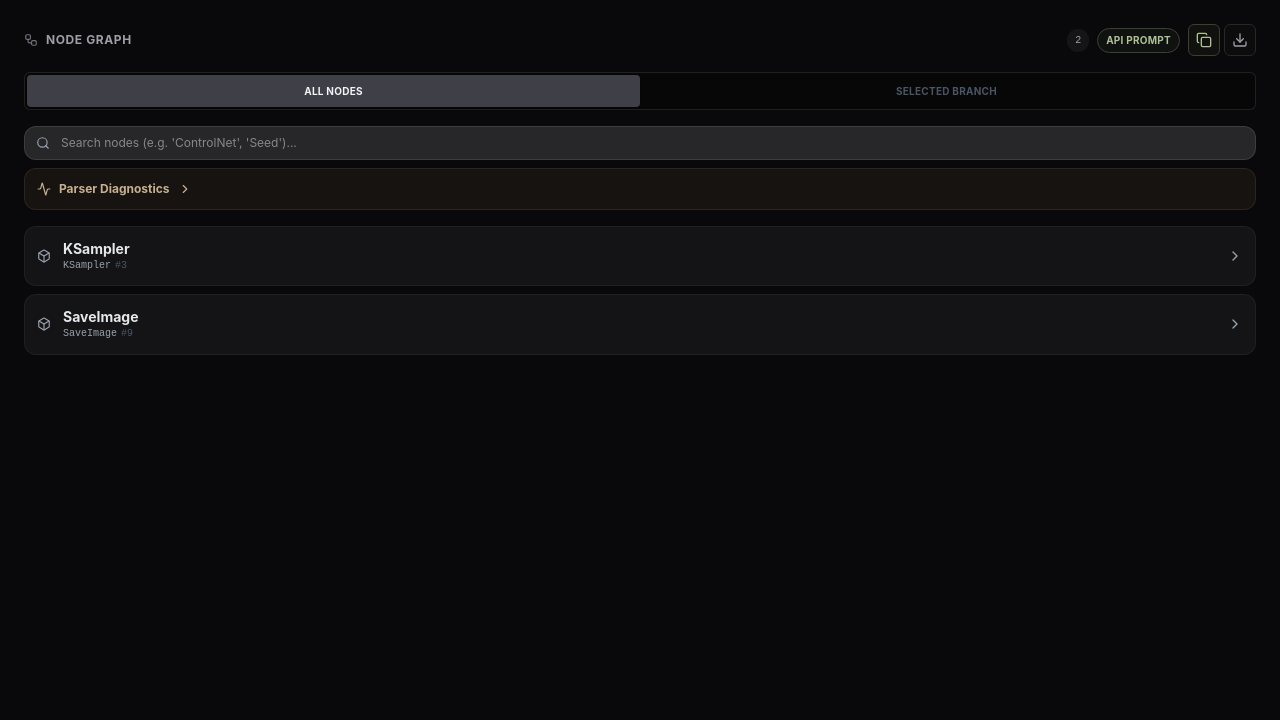
it: WorkflowInspector ComfyUI parser diagnostics › marks sampler fallback diagnostics as weaker evidence
Step 1. Click the button "Parser Diagnostics" → (114, 188), box [37,181,1243,197]
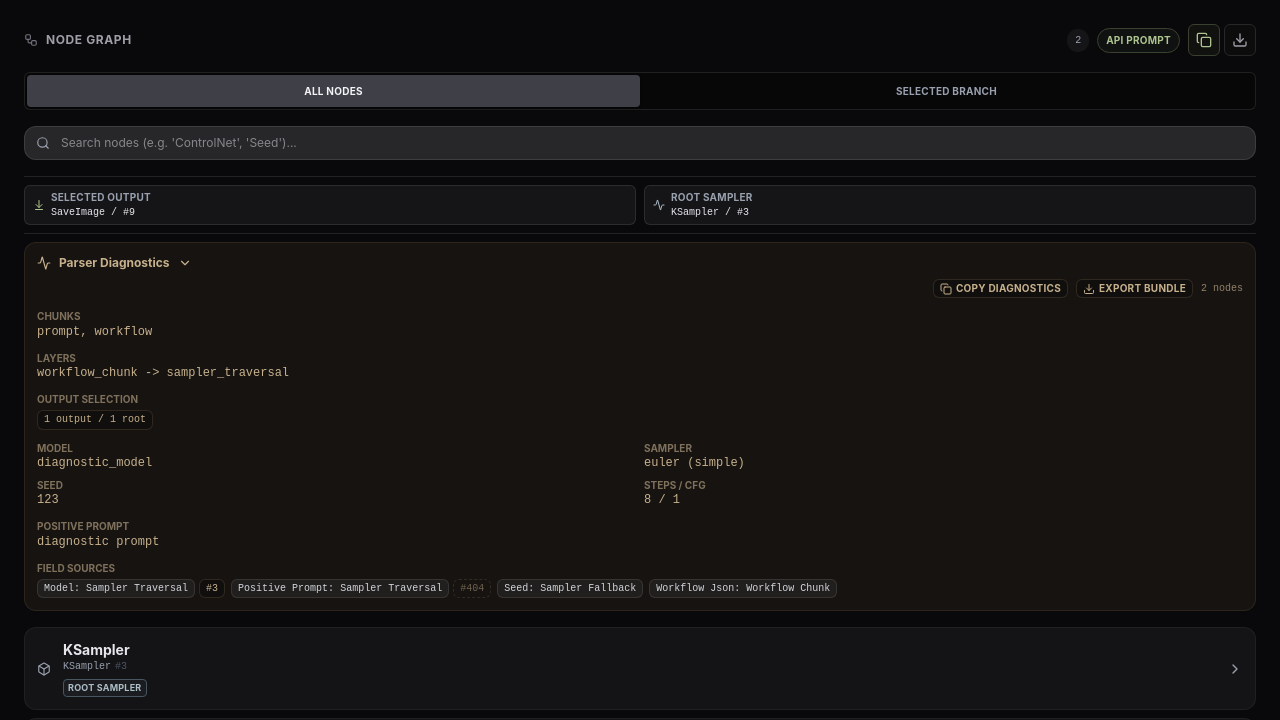
Expected: the text titled "Sampler fallback: found by scanning samplers, weaker than saved-output traversal." is shown, [497,579,643,598]
